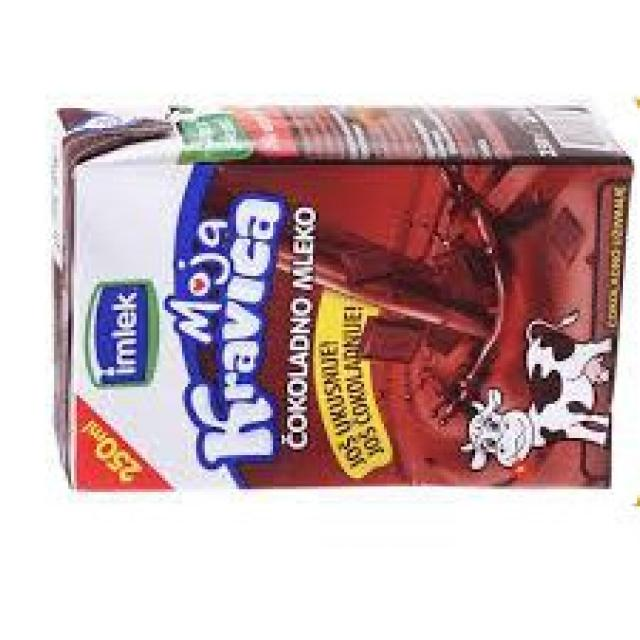non_white_jug: (44, 102, 634, 494)
